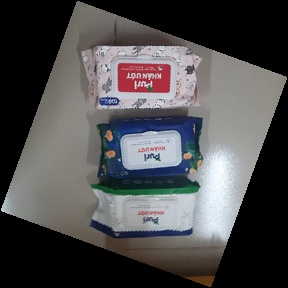Puri Trang: (87, 180, 201, 241)
Puri Xanh: (96, 117, 205, 182)
Puri hong: (79, 45, 203, 112)
